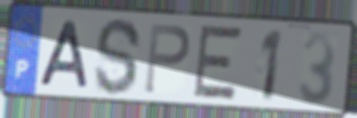1: (255, 28, 285, 104)
3: (297, 30, 339, 107)
A: (37, 18, 91, 91)
E: (191, 23, 246, 102)
P: (142, 21, 192, 97)
S: (92, 15, 144, 98)
